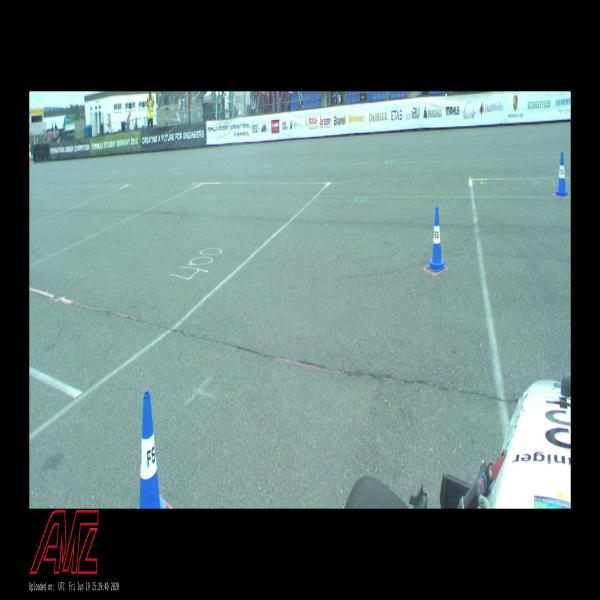blue_cone: (137, 390, 167, 509), (427, 206, 447, 272), (554, 152, 569, 196)
